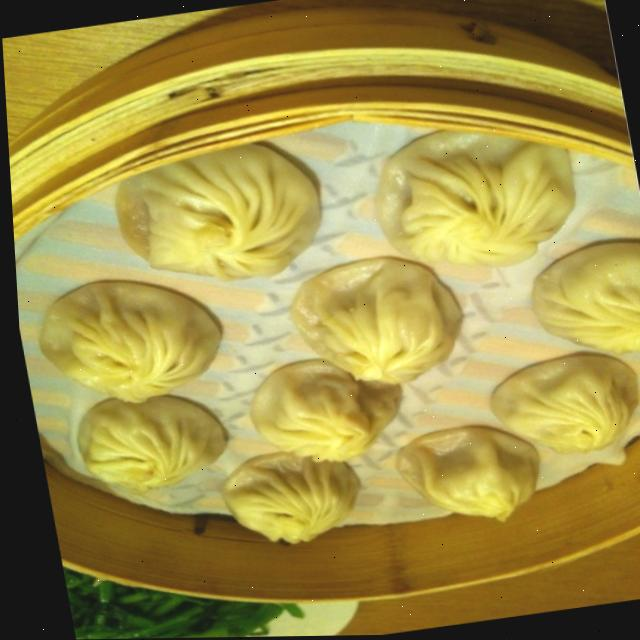带馅早点: (1, 9, 640, 622)
